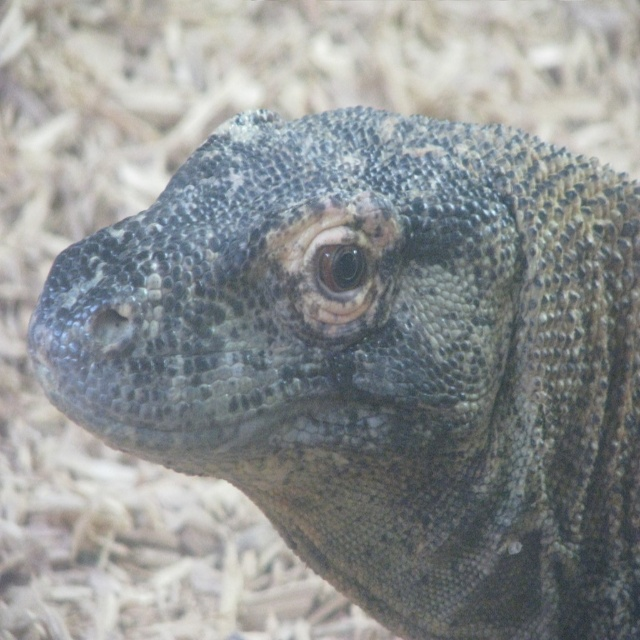Lizard: (54, 77, 640, 640)
